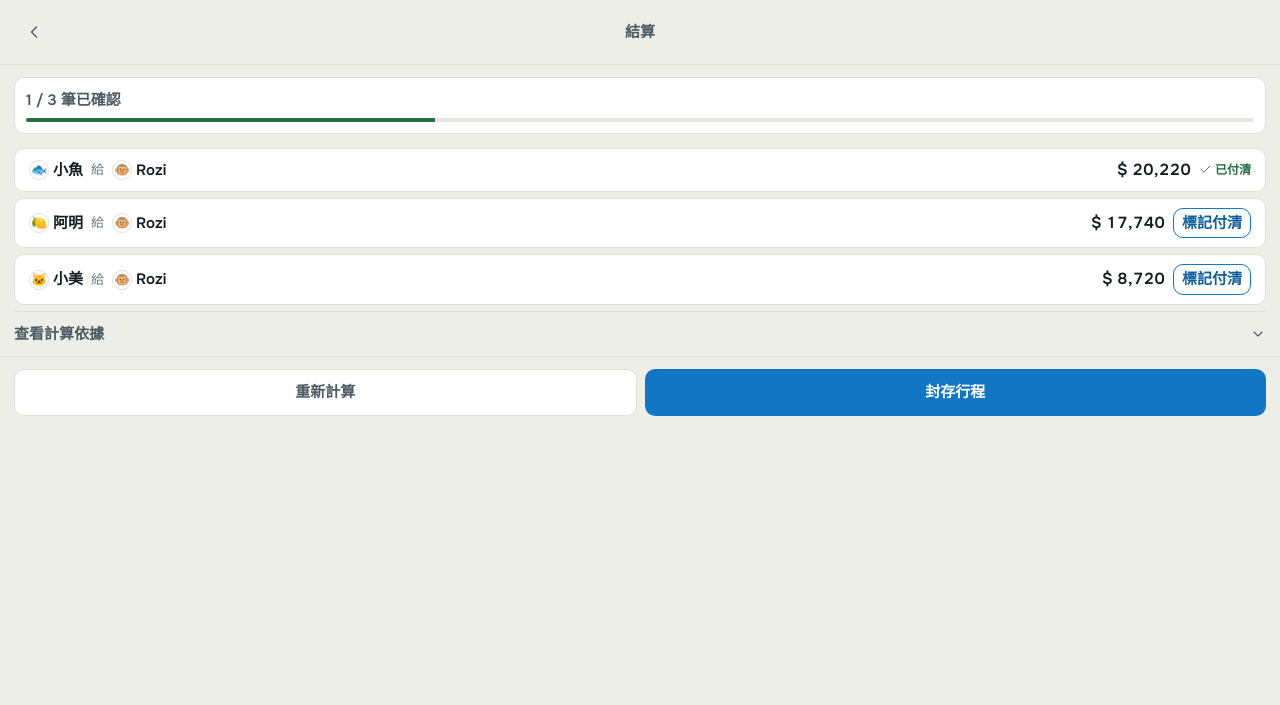
B-5　S-05 已結算：逐筆標記付清 › S-05-11　人話淨額補上對象；由多筆組成時全部列出
This screenshot has width=1280, height=705.
Check: the text "結算" is shown, box [625,21,655,43]
Click the button "查看計算依據".
click(59, 334)  # box [14,310,1266,356]
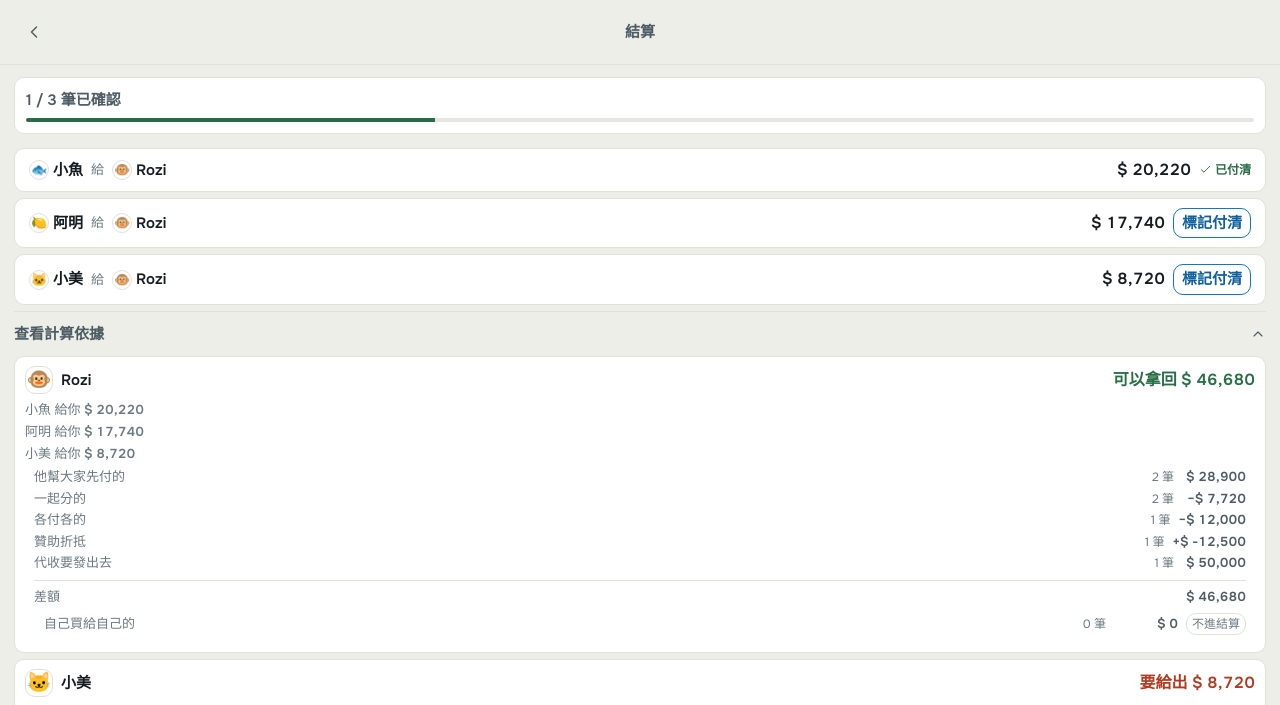
Check: the element with class "netcard" shows "可以拿回", box [1113,369,1255,390]
Check: the element with class "netcard" shows "小魚 給你", box [14,356,1266,653]
Check: the element with class "netcard" shows "阿明 給你", box [14,356,1266,653]
